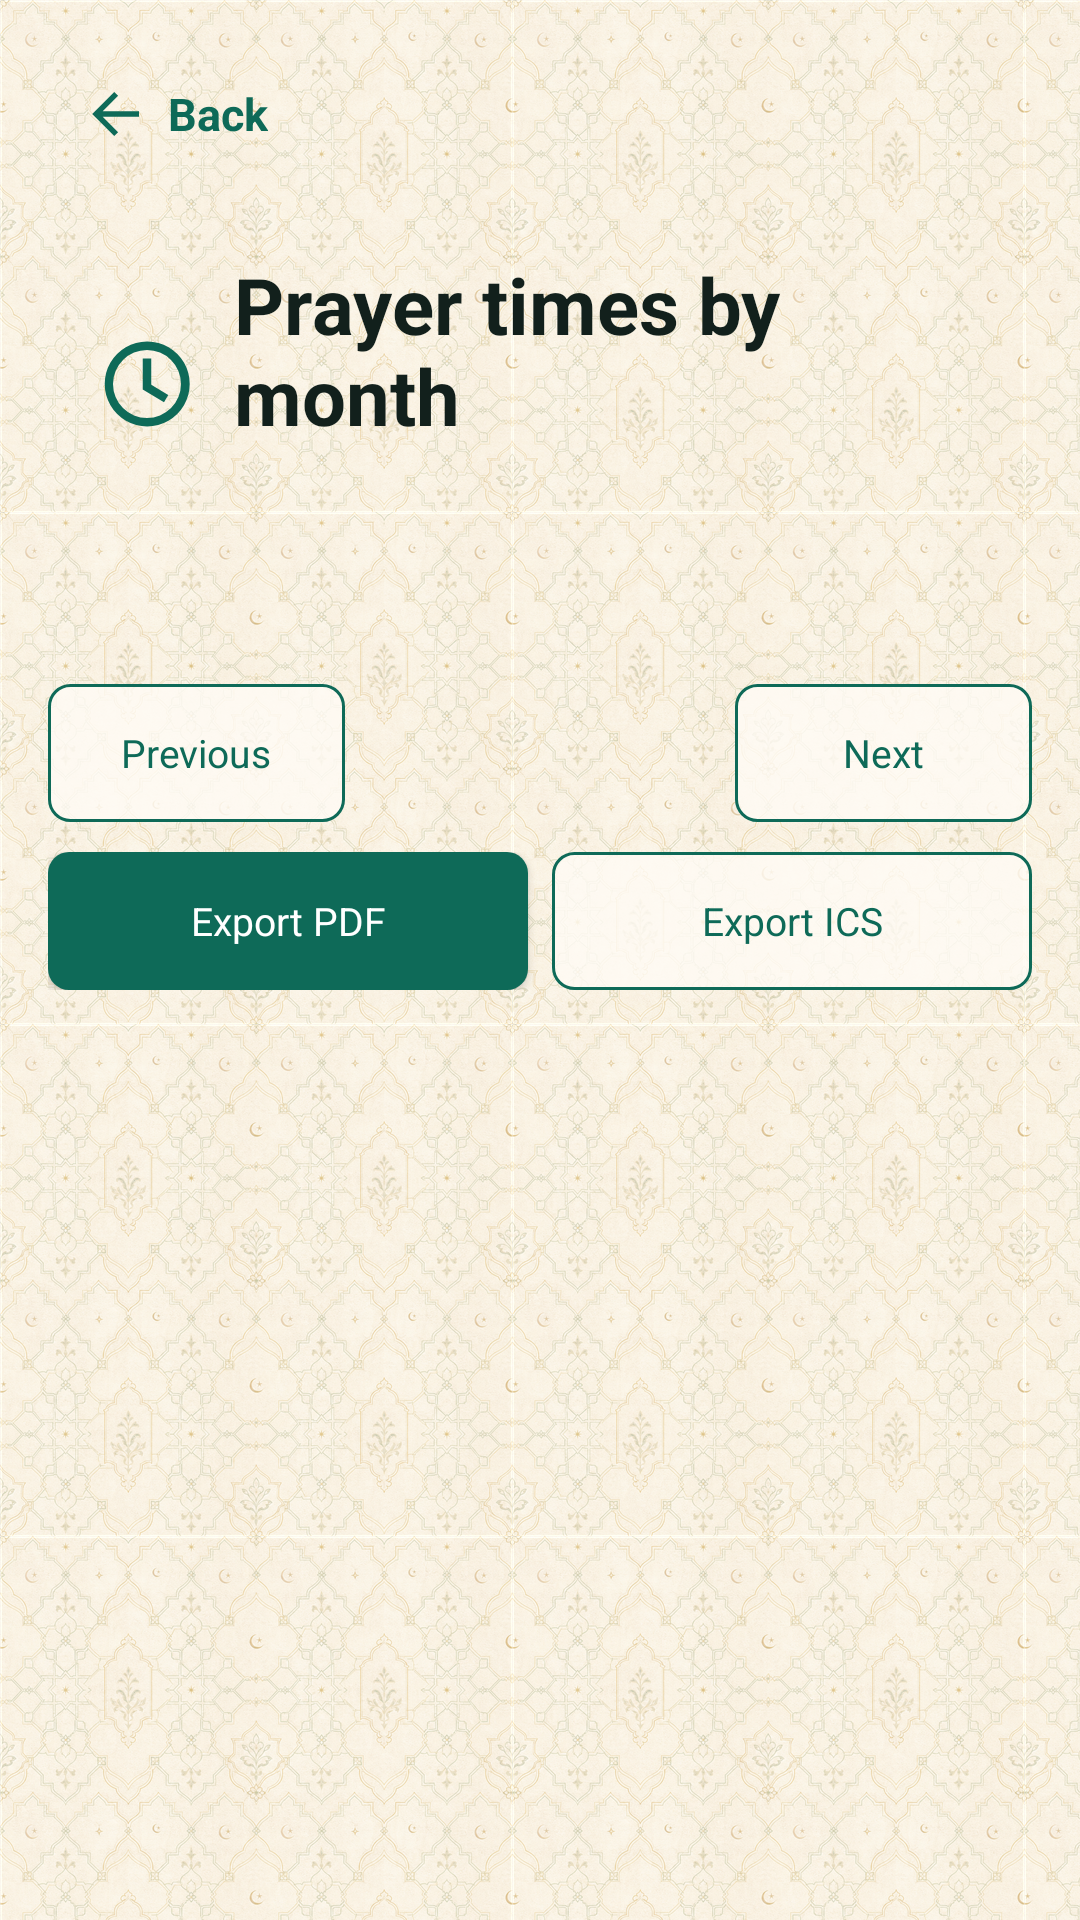

Named icons in this screenshot (1080x1920) and their centers, (x=x, y=y):
clock: (x=147, y=384)
